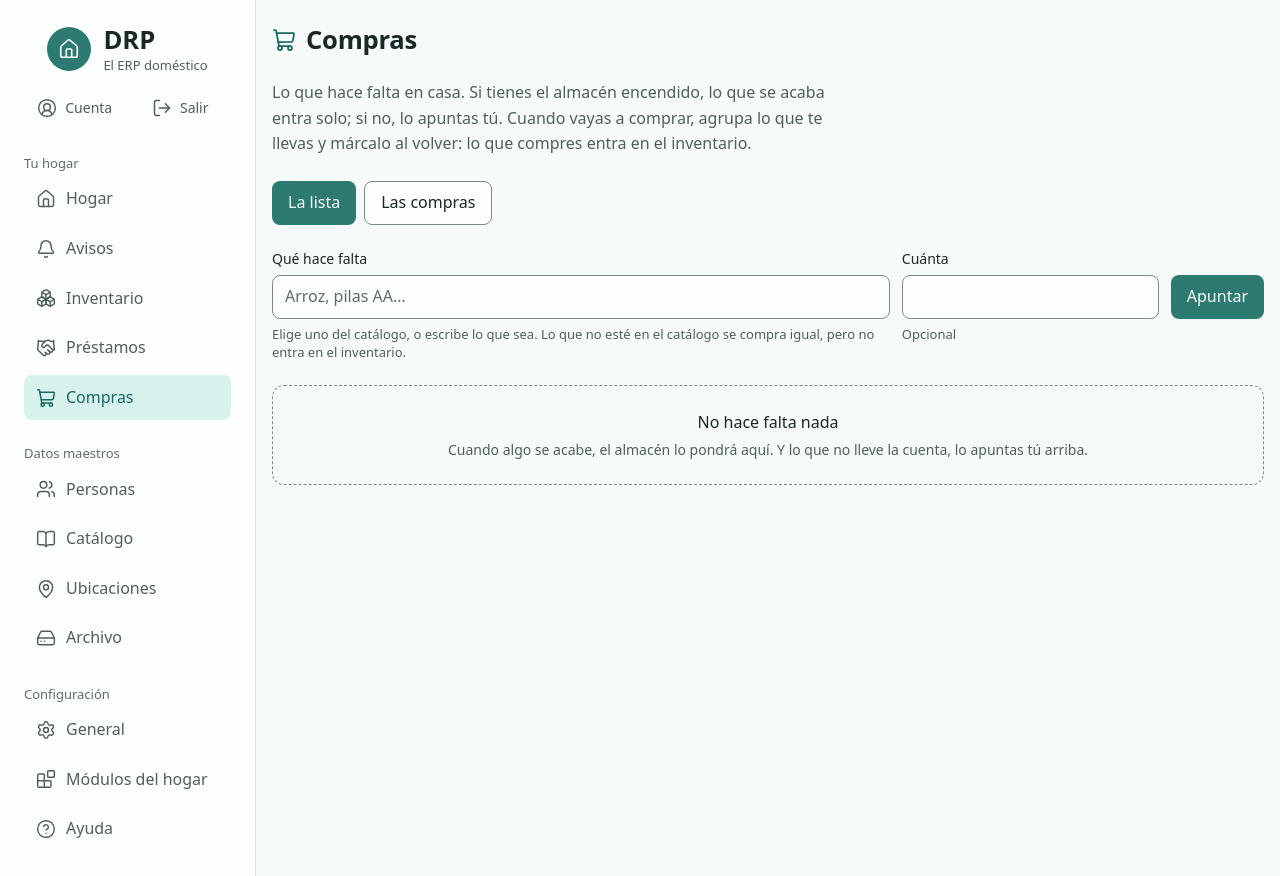
Test: recibir una compra › una línea sin artículo avisa de que no entra en el inventario, antes de comprarla
Expected: the heading "Compras" is shown, [306,24,417,56]
Click the tab "Las compras" at x=428, y=203, box [364,181,492,225]
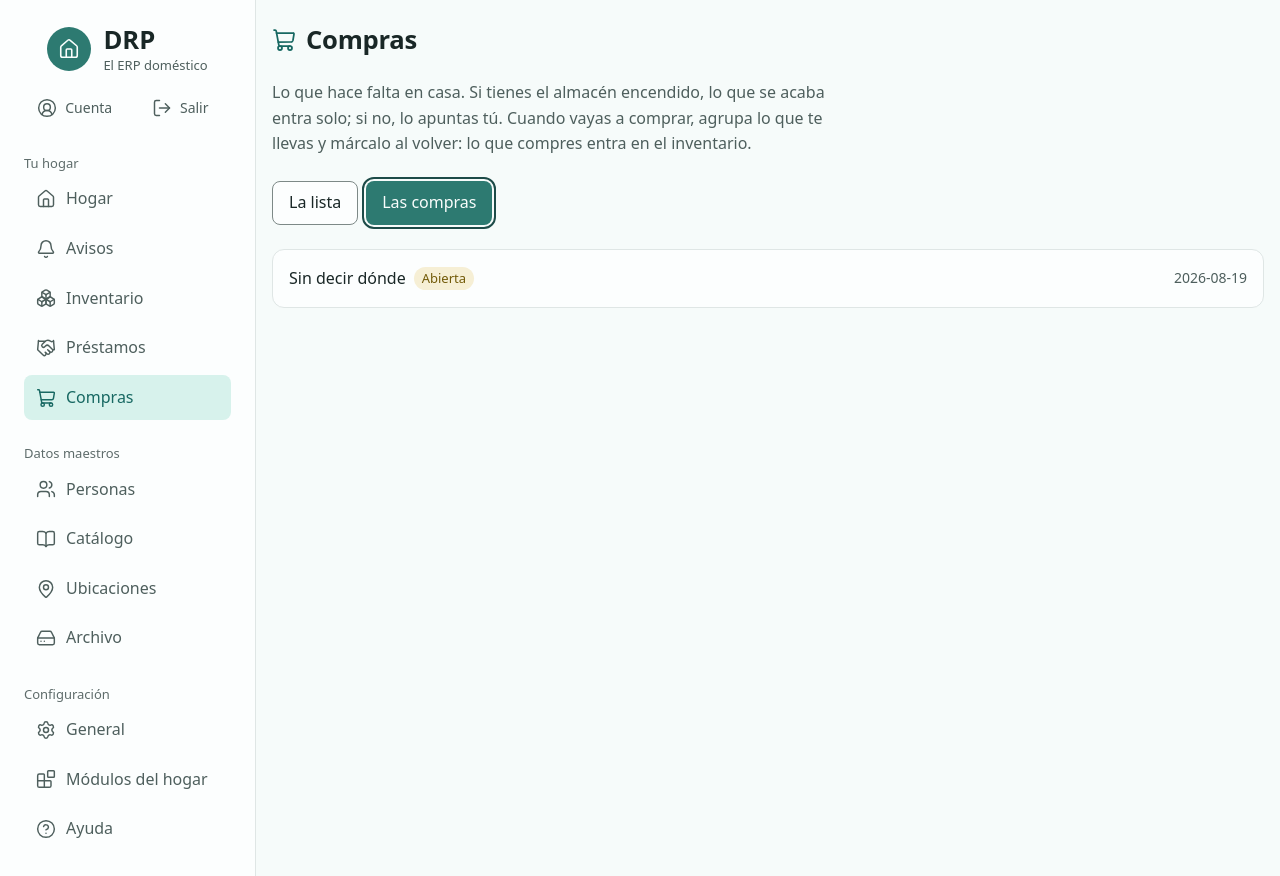
Click the button "Sin decir dónde Abierta 2026-08-19" at x=347, y=278, box [273,250,1263,307]
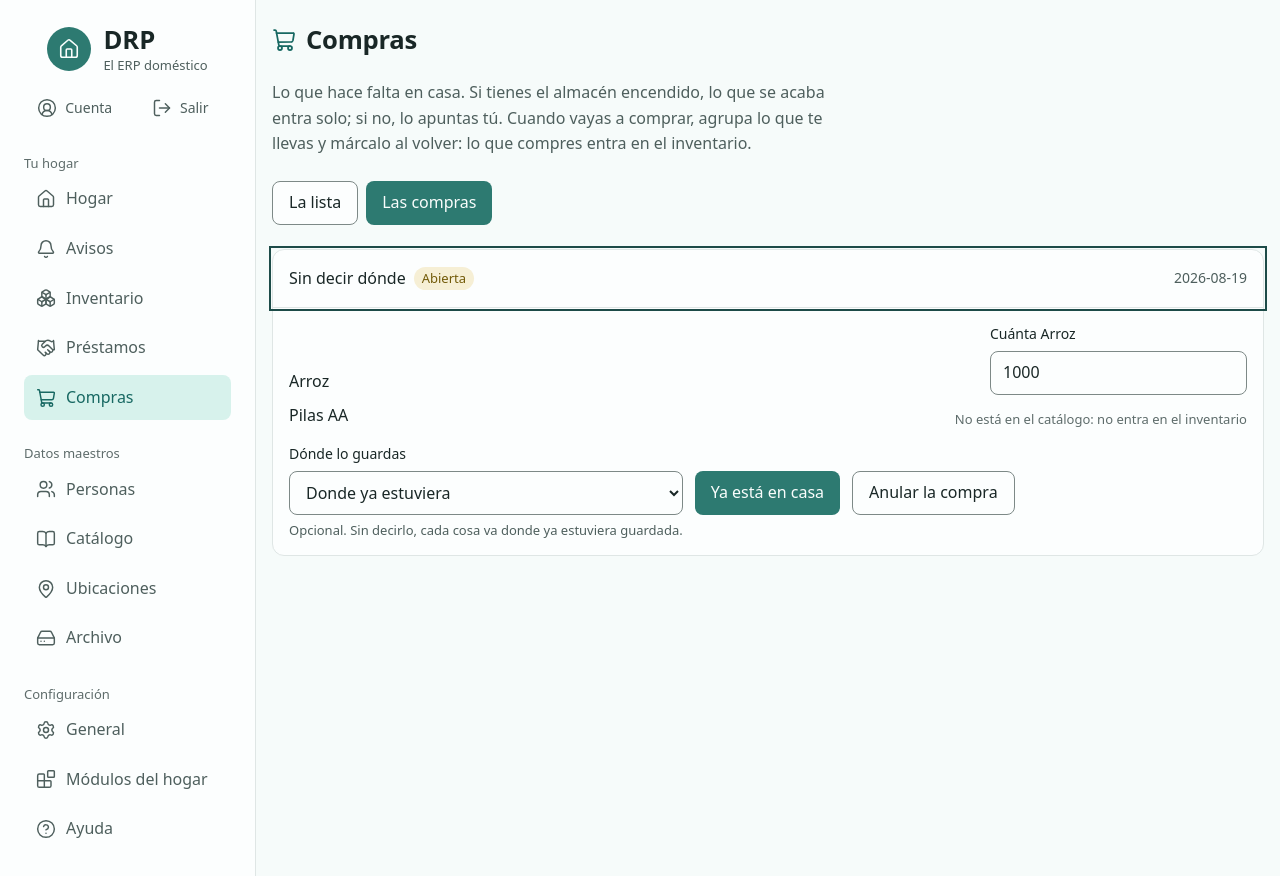
Now the text "No está en el catálogo: no entra en el inventario" is shown, box [955,410,1247,428]
